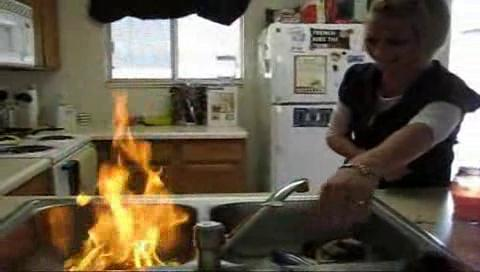fire: (89, 92, 164, 263)
